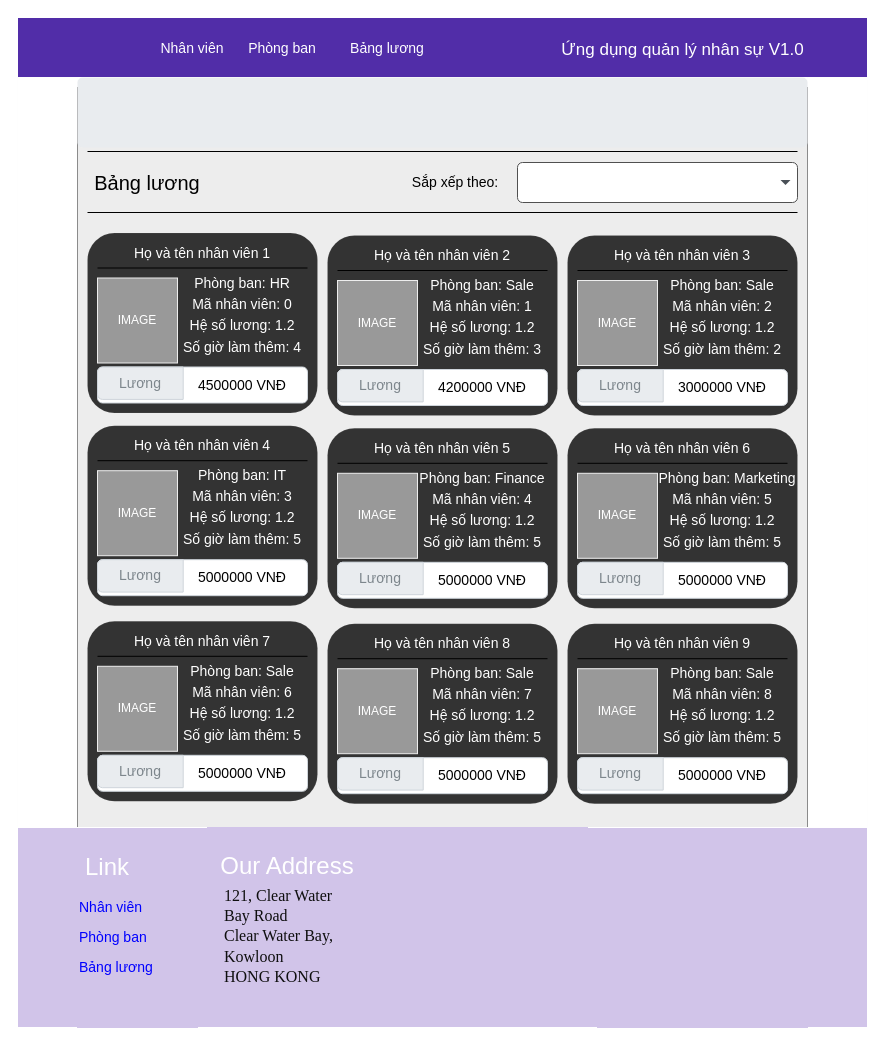
This 885x1045 diagram has some shape labels left out. Each missing label, with the centre of its shape:
"LOGO" belongs at [442,47].
"Nhân viên / Bảng lương" belongs at [442,112].
"Social - Icon" belongs at [702,928].
"Tên A - Z" belongs at [657,182].
